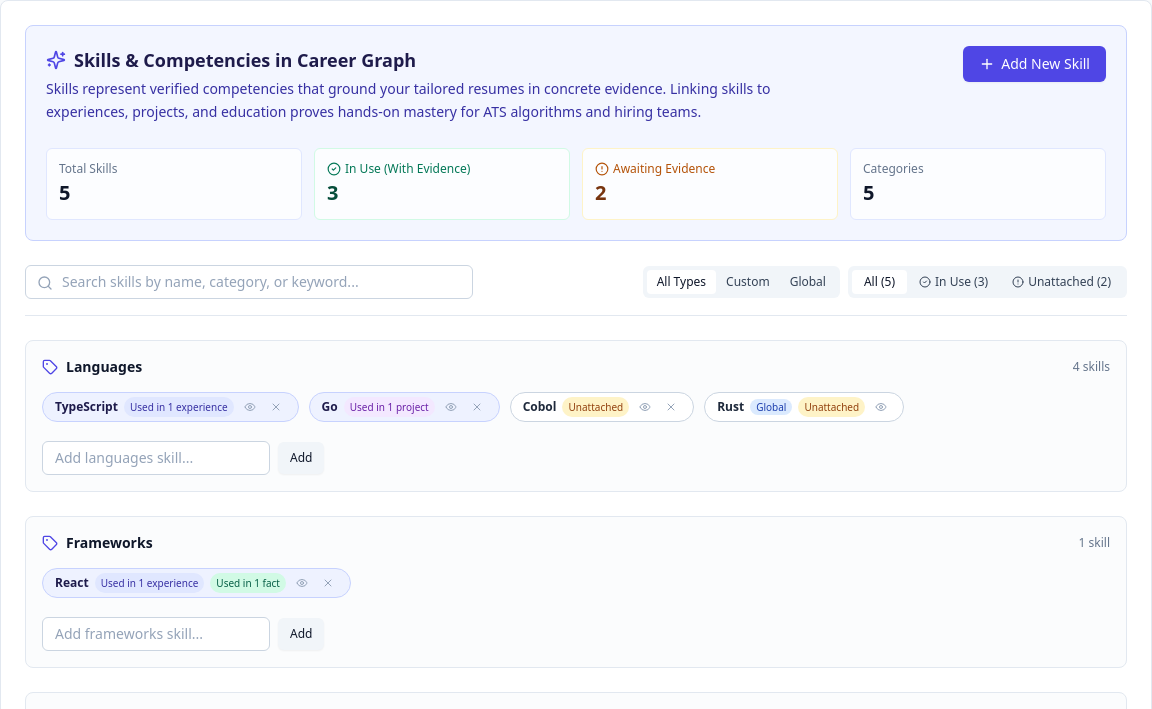
Scenario: SkillsManager › filters skills by origin (All, Custom, Global)
The image size is (1152, 709).
# Filter to Global
Step 1. Click the button "Global" → [808, 282], box 780,270 -> 836,294
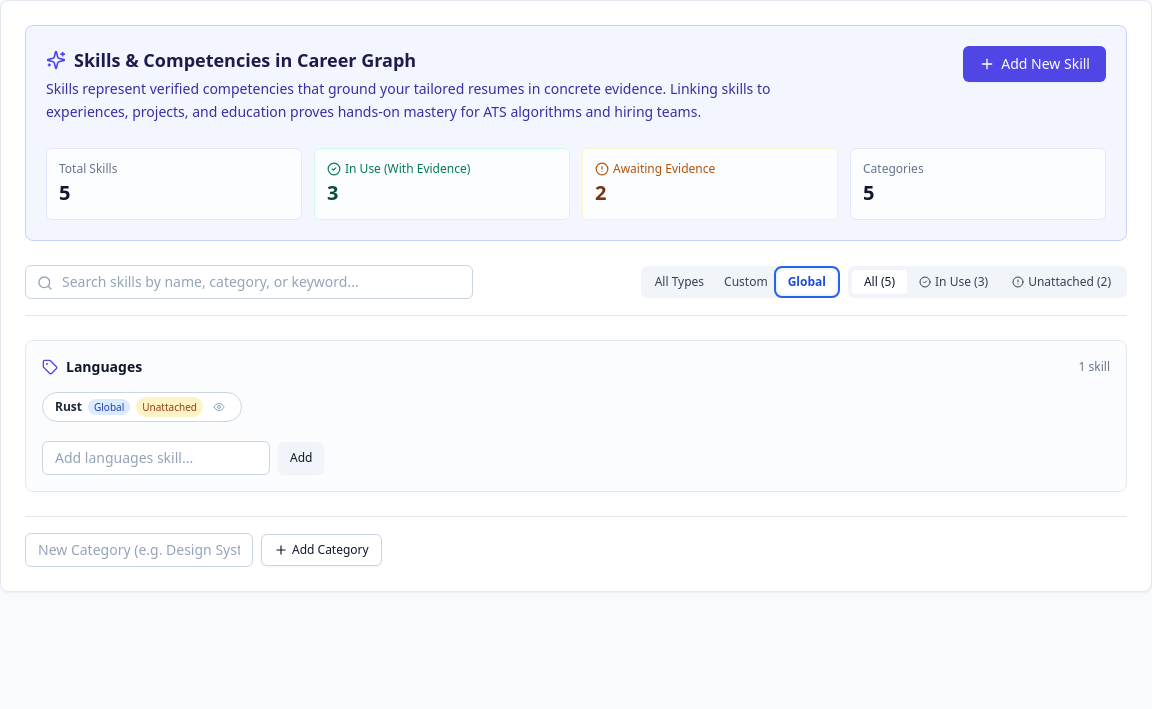
Expected: the text "Rust" is shown, 55,398 -> 82,414
Expected: the text "TypeScript" is gone
Expected: the text "Cobol" is gone
# Filter to Custom
Step 2. Click the button "Custom" → [746, 282], box 714,270 -> 778,294
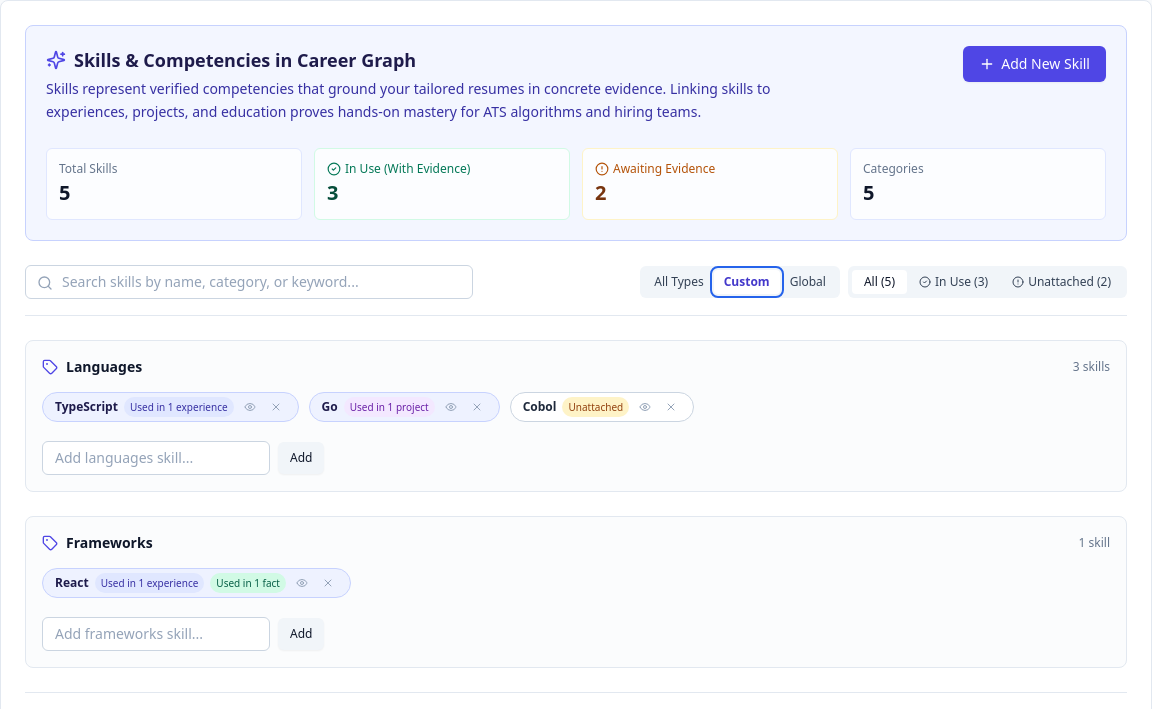
Expected: the text "Rust" is gone
Expected: the text "TypeScript" is shown, 55,398 -> 118,414
Expected: the text "Cobol" is shown, 523,398 -> 556,414
